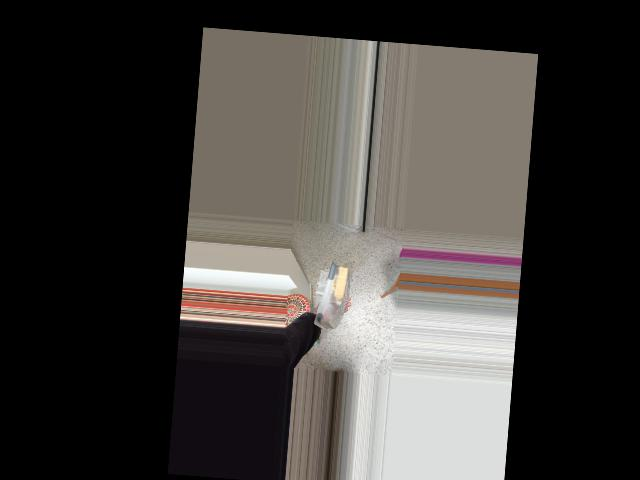cheese: (311, 262, 352, 333)
